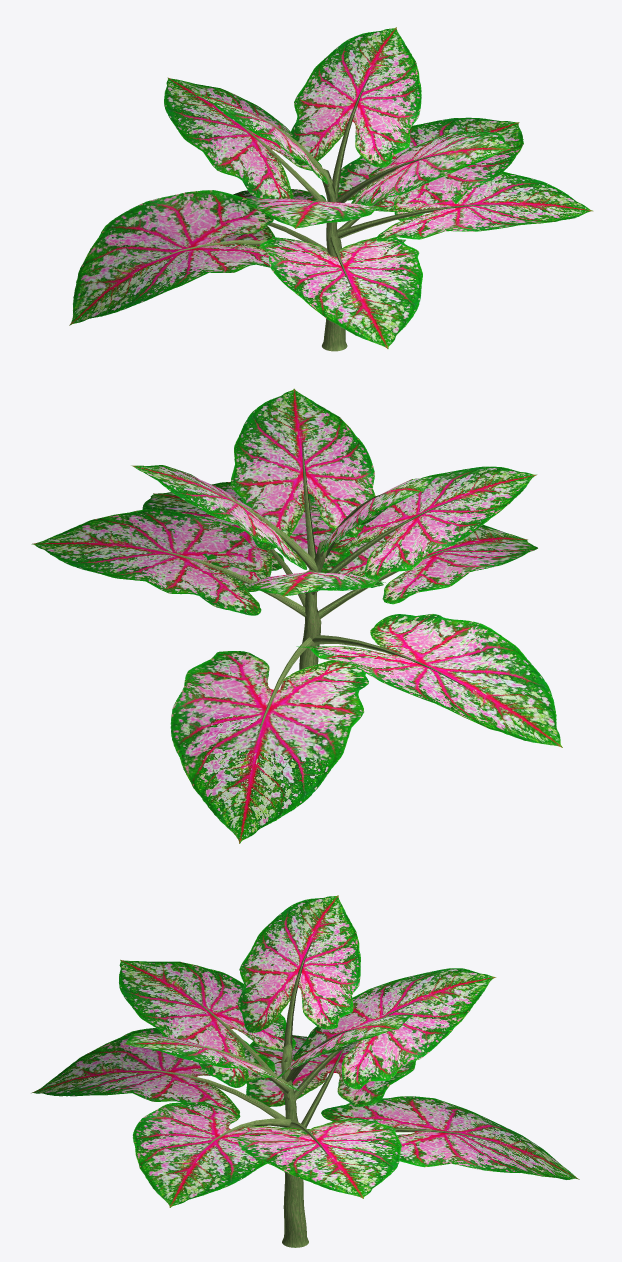
Rendered from toxicplantLessLeaves.fbx.
3 views of the same model, one above another, from view 1: azimuth 30°, elevation 25°; view 2: azimuth 150°, elevation 25°; view 3: azimuth 270°, elevation 25° (orthographic). The views are drawn at different scales.
Parts seen in each view (by area): view 1: Tree_1, Tree_0; view 2: Tree_1, Tree_0; view 3: Tree_1, Tree_0.
Boxes of the visible parts, x1,y1,x2,y2 form: Tree_1: (69,27,593,348); Tree_0: (145,75,509,351); Tree_1: (31,388,562,843); Tree_0: (130,442,470,749); Tree_1: (31,895,579,1207); Tree_0: (125,941,495,1247).
Bounding box in the file's own units: 230 × 121 × 227.
Materials: 2 (2 with a texture image).
